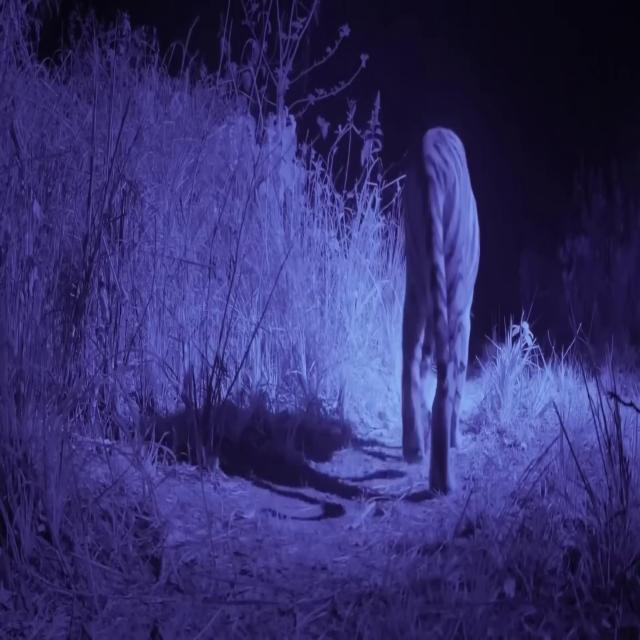tiger: (401, 127, 480, 497)
